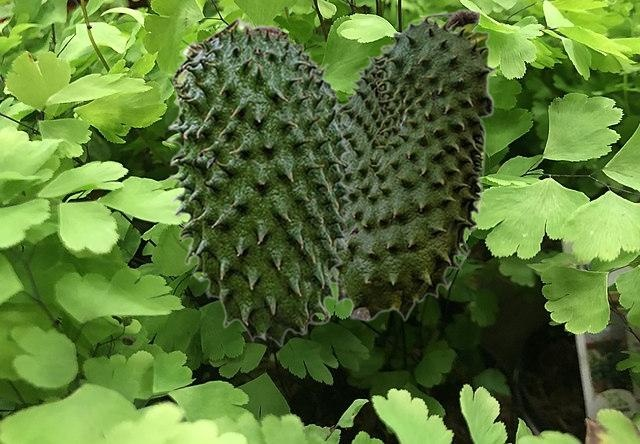guyabano: (166, 15, 355, 346), (335, 8, 495, 321)
